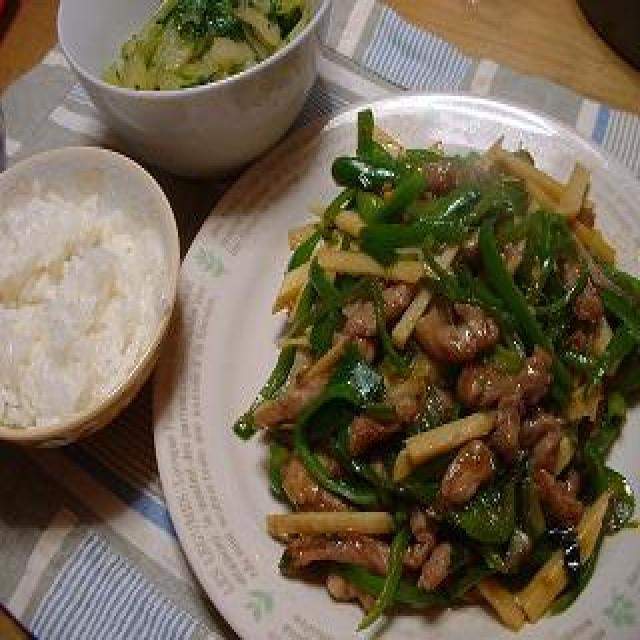牛肉菜式: (228, 85, 640, 640)
